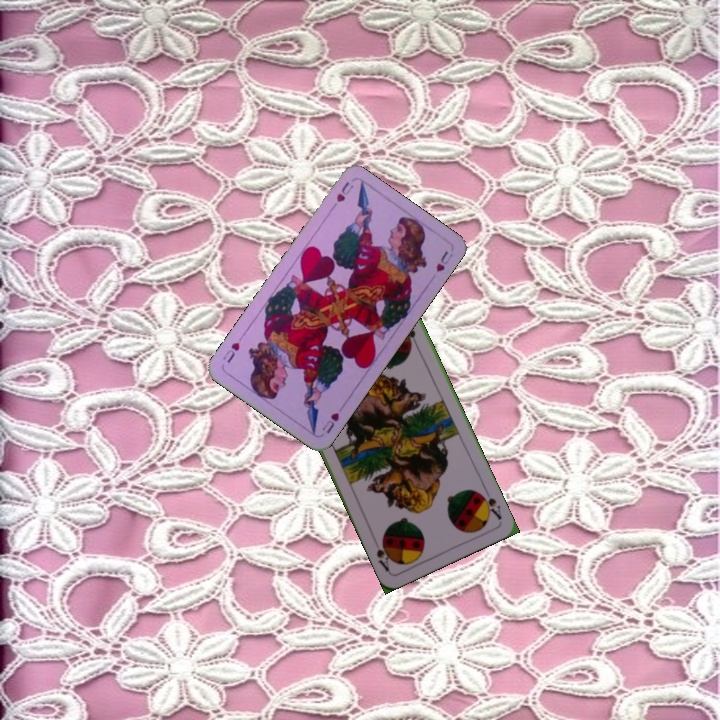HU: (326, 177, 356, 213), (318, 408, 342, 436)
SA: (475, 485, 504, 522)
